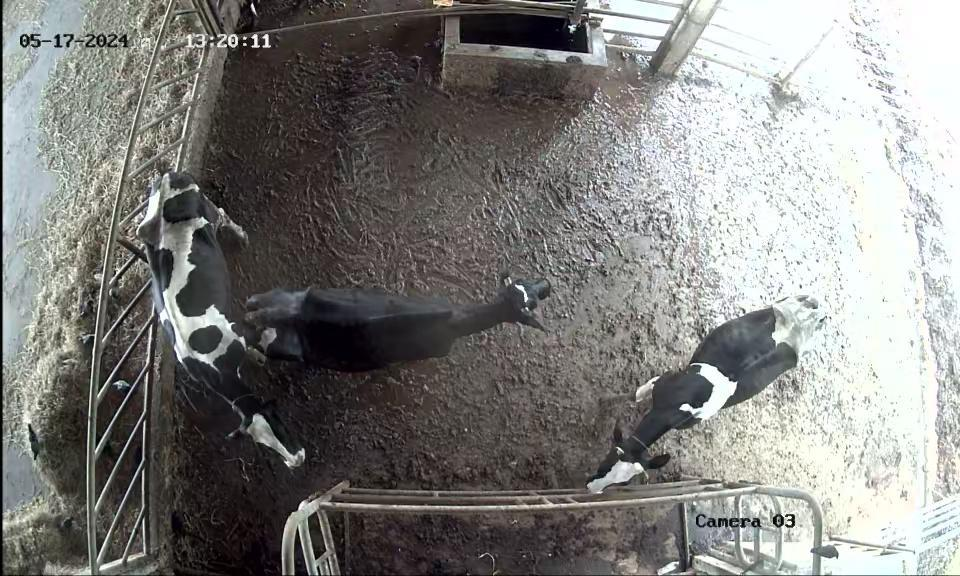stand: (580, 262, 830, 503), (132, 167, 313, 477), (245, 262, 551, 376)
